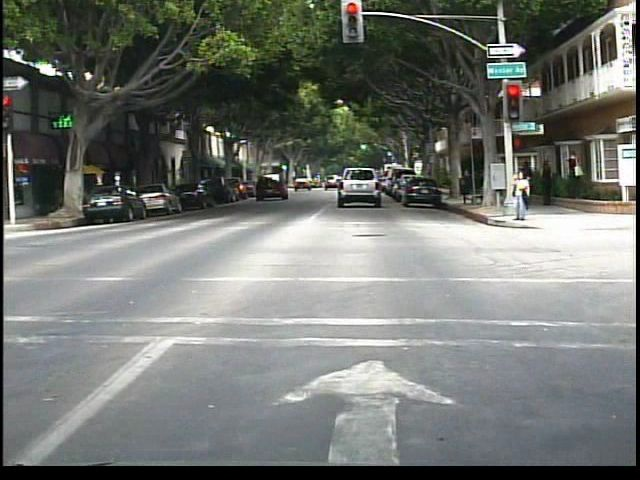person: (506, 168, 532, 224), (536, 158, 558, 214), (563, 149, 586, 201), (517, 157, 535, 206)
